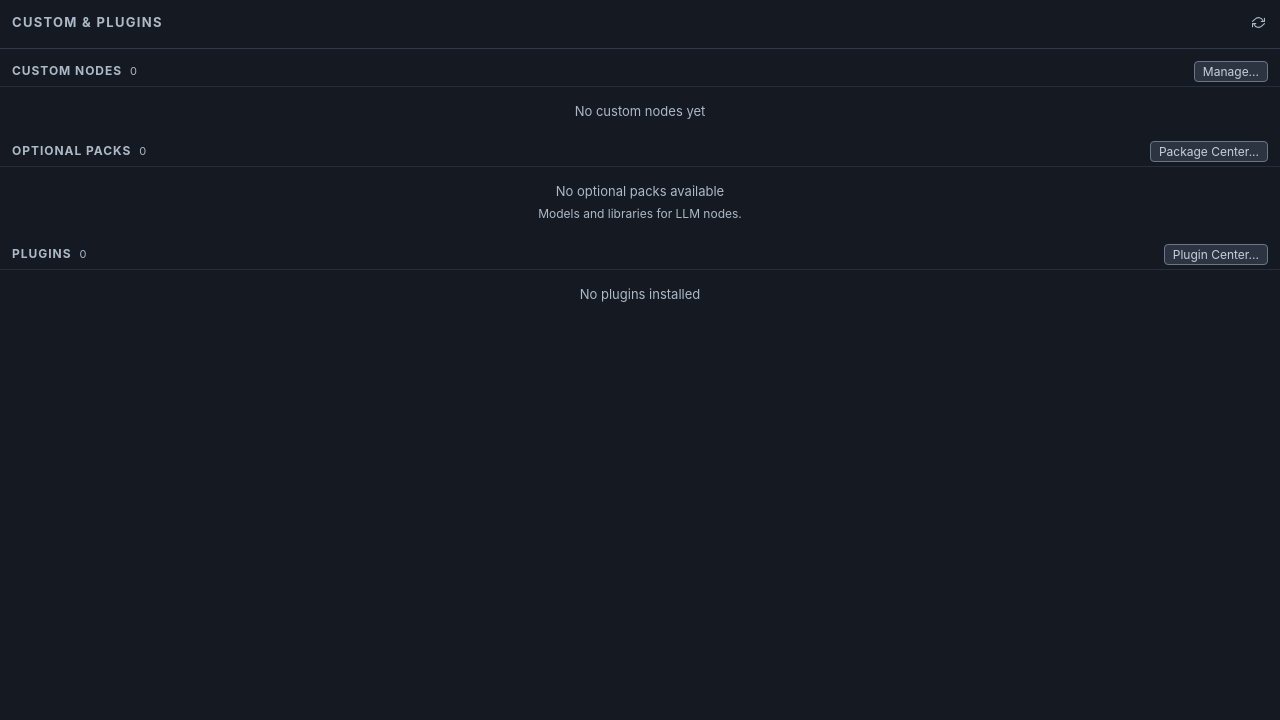
it: CustomTab › opens the one custom node manager, as a modal, and re-fetches when it closes
The image size is (1280, 720).
Expected: the text "No custom nodes yet" is shown, x1=575 y1=103 x2=705 y2=119
Click the button "Manage..." at (1231, 72), box x1=1194 y1=61 x2=1268 y2=82
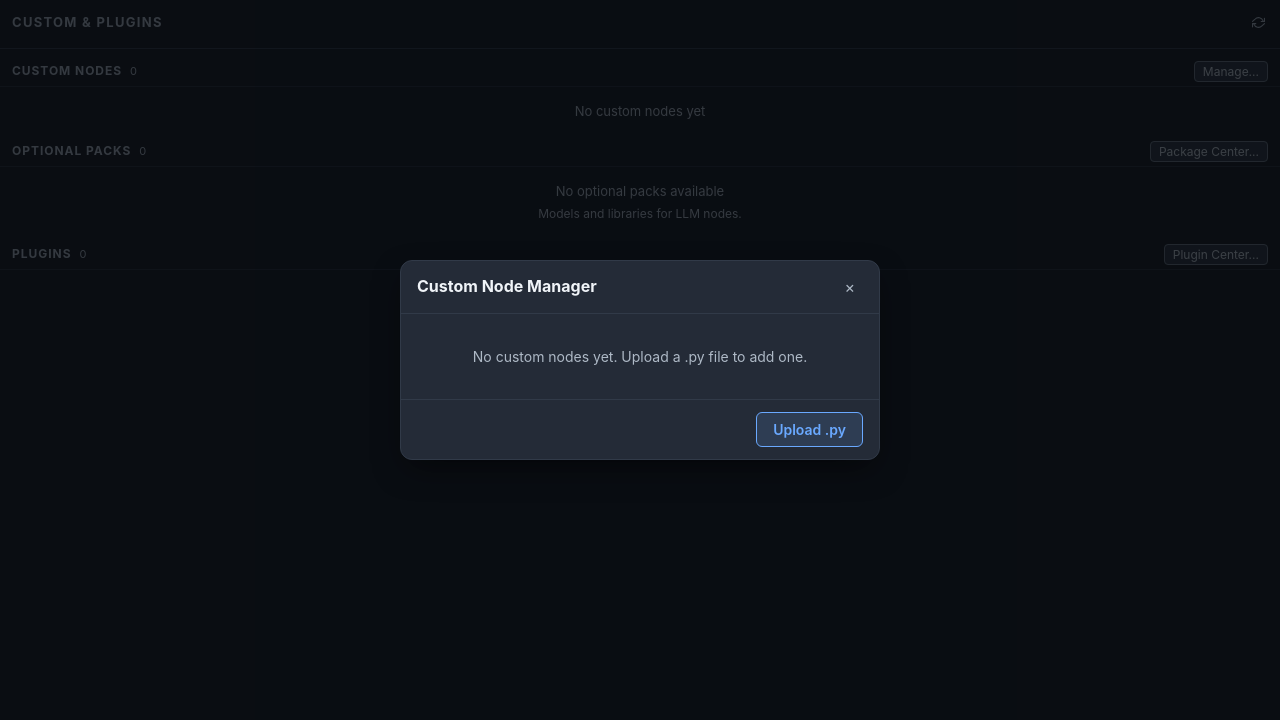
Expected: the number of headings "Custom Node Manager" is 1, x1=417 y1=274 x2=597 y2=299
Expected: the text "No custom nodes yet. Upload a .py file to add one." is shown, x1=473 y1=348 x2=807 y2=365
Click the button named "Close custom node manager" at (850, 287), box x1=836 y1=273 x2=863 y2=301
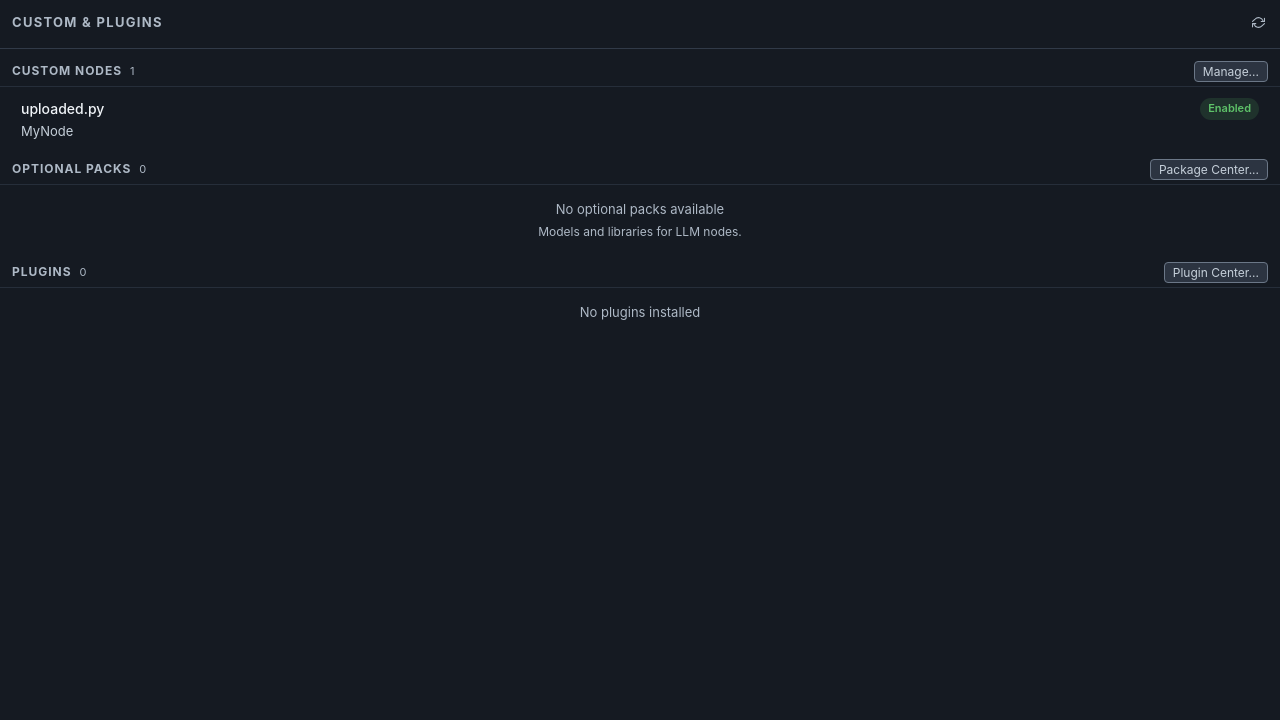
Expected: the heading "Custom Node Manager" is gone
Expected: the text "uploaded.py" is shown, x1=21 y1=100 x2=104 y2=117
